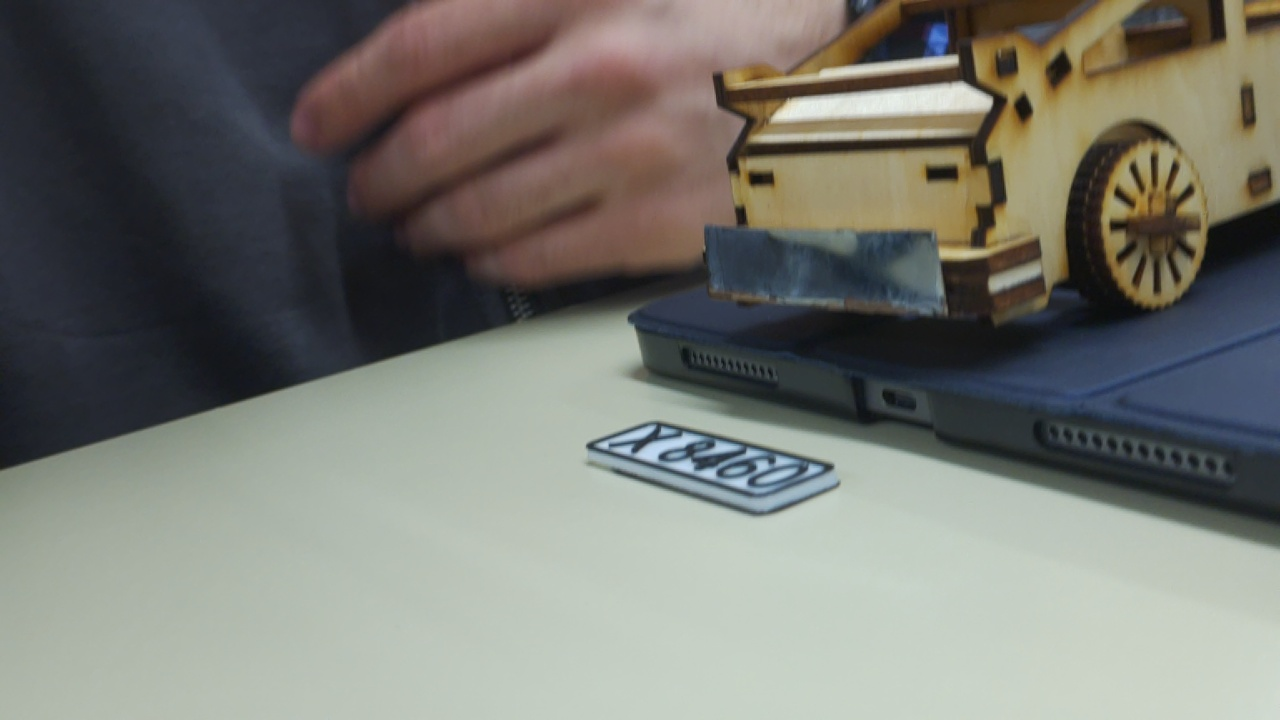license_plate: (581, 422, 850, 525)
